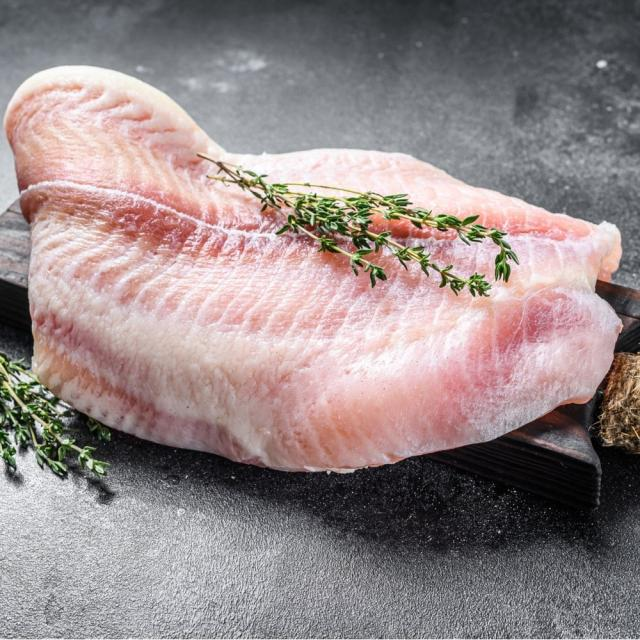Catfish: (4, 59, 622, 490)
Thyme: (189, 133, 533, 315), (0, 352, 122, 504)
